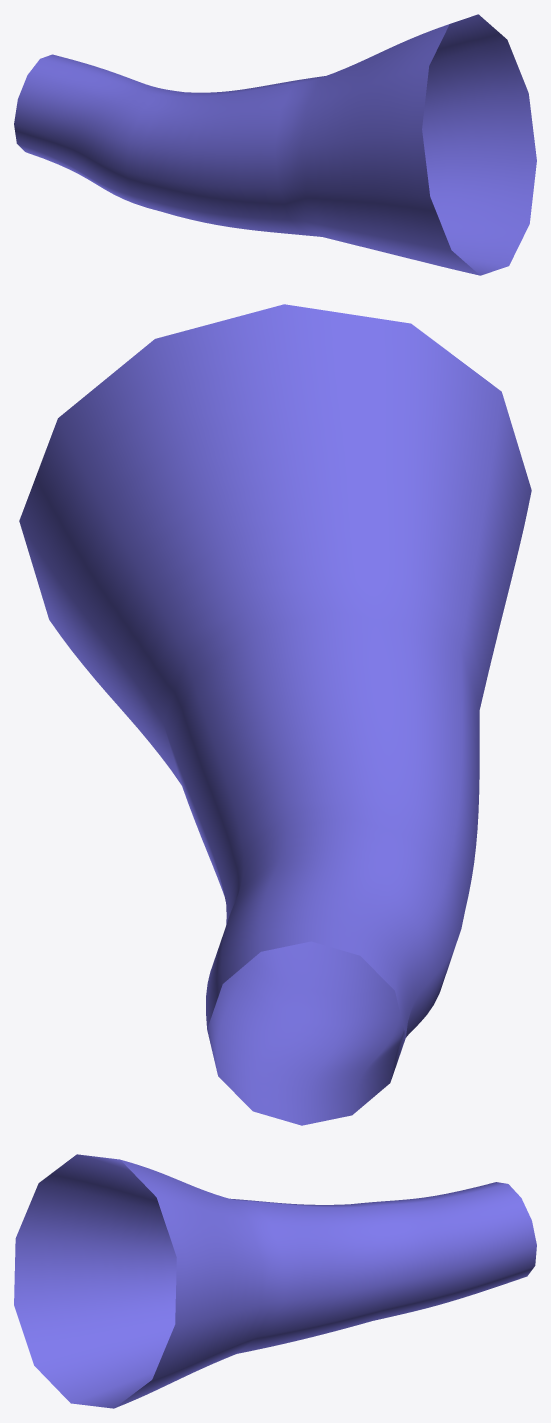
File: Right_renal_vein.glb
3 renders of one model, top to bottom at view 1: azimuth 30°, elevation 25°; view 2: azimuth 150°, elevation 25°; view 3: azimuth 270°, elevation 25°, orthographic. The views are drawn at different scales.
Parts seen in each view (by area): view 1: Right_renal_vein_BezierCurve.439; view 2: Right_renal_vein_BezierCurve.439; view 3: Right_renal_vein_BezierCurve.439.
Boxes of the visible parts, left/top/right/bottom form: Right_renal_vein_BezierCurve.439: left=14, top=14, right=536, bottom=275; Right_renal_vein_BezierCurve.439: left=19, top=304, right=531, bottom=1125; Right_renal_vein_BezierCurve.439: left=14, top=1154, right=536, bottom=1408.
Size of the model in its own units: 0.0202 by 0.0128 by 0.0263.
